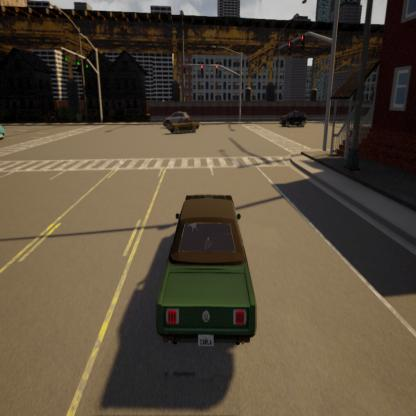Cars: (146, 170, 274, 372), (153, 99, 221, 149), (276, 96, 308, 149)
